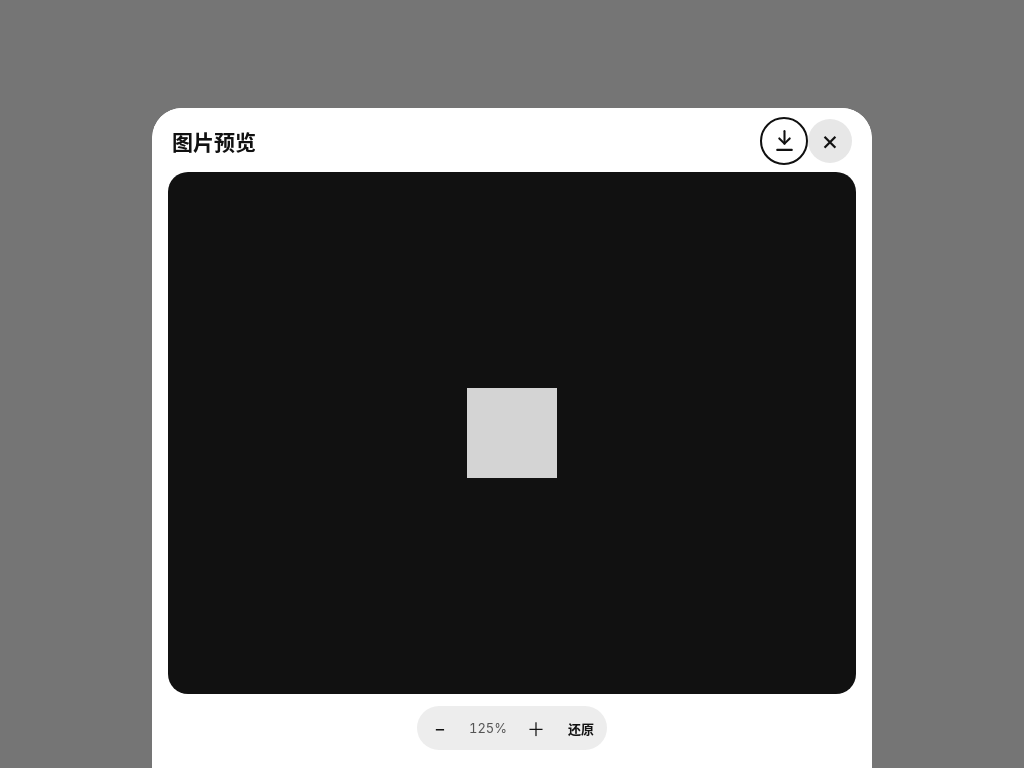
Test: 图片放大预览 › 大图支持滚轮和双击手动缩放
The width and height of the screenshot is (1024, 768).
expect the text "125%" is shown: met, box [469,720,507,736]
Double-click the element with class "image-preview-stage".
double_click(512, 433)  # box [168,172,856,694]
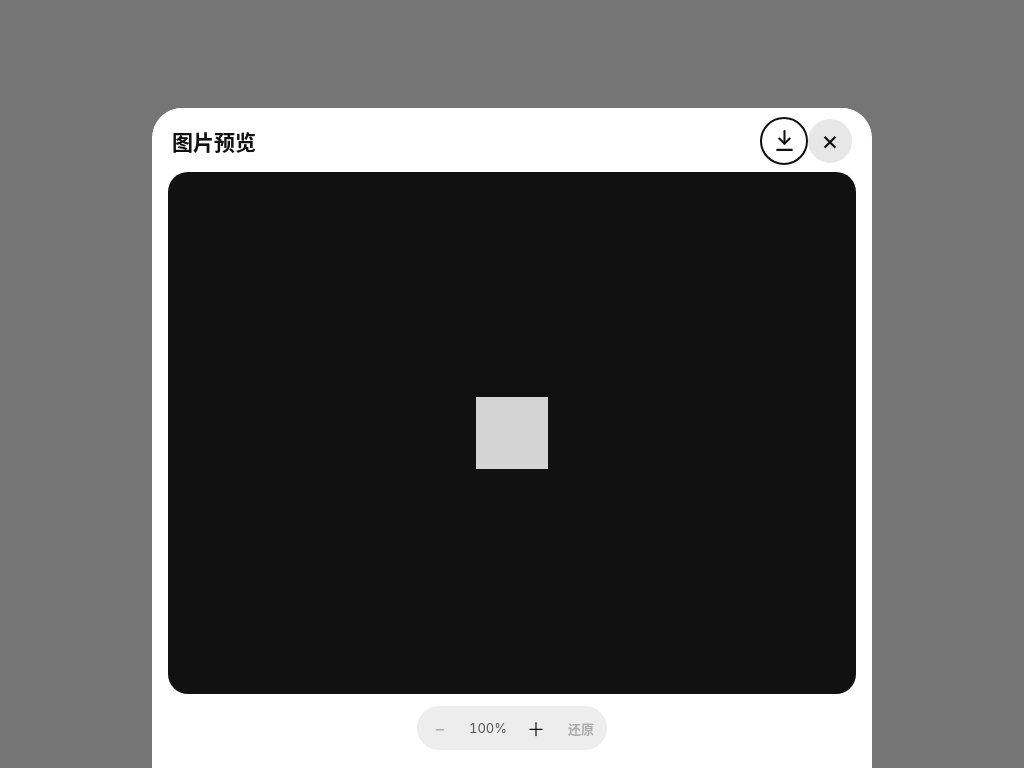
expect the text "100%" is shown: met, box [469,720,507,736]
